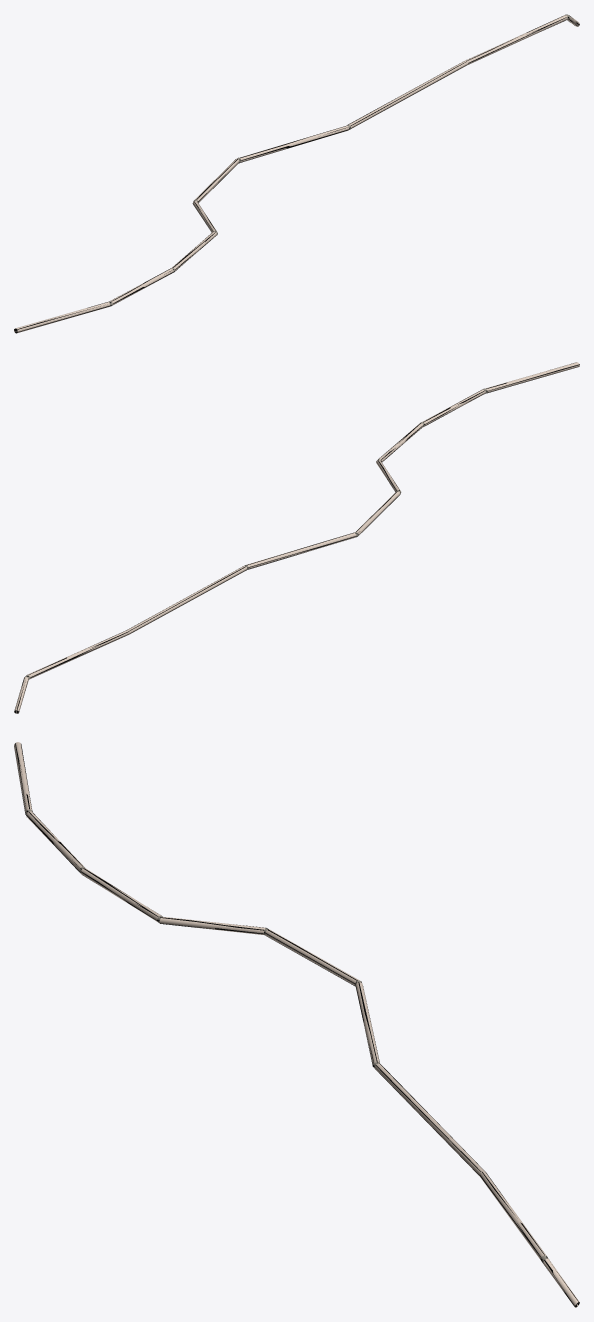
File: pipeline_segment1.dae
3 renders of one model, top to bottom at view 1: azimuth 30°, elevation 25°; view 2: azimuth 210°, elevation 25°; view 3: azimuth 270°, elevation 25°, orthographic. The views are drawn at different scales.
Visible parts, largest first — view 1: pipeline_segment1_a2000, pipeline_segment1_a1000; view 2: pipeline_segment1_a2000, pipeline_segment1_a1000; view 3: pipeline_segment1_a2000, pipeline_segment1_a1000.
Boxes of the visible parts, x1,y1,x2,y2 form: pipeline_segment1_a2000: (14, 14, 579, 333); pipeline_segment1_a1000: (14, 14, 579, 333); pipeline_segment1_a2000: (14, 362, 579, 713); pipeline_segment1_a1000: (14, 363, 579, 713); pipeline_segment1_a2000: (14, 742, 579, 1307); pipeline_segment1_a1000: (15, 743, 579, 1307).
Size of the model in its own units: 250 by 112 by 7.99.
